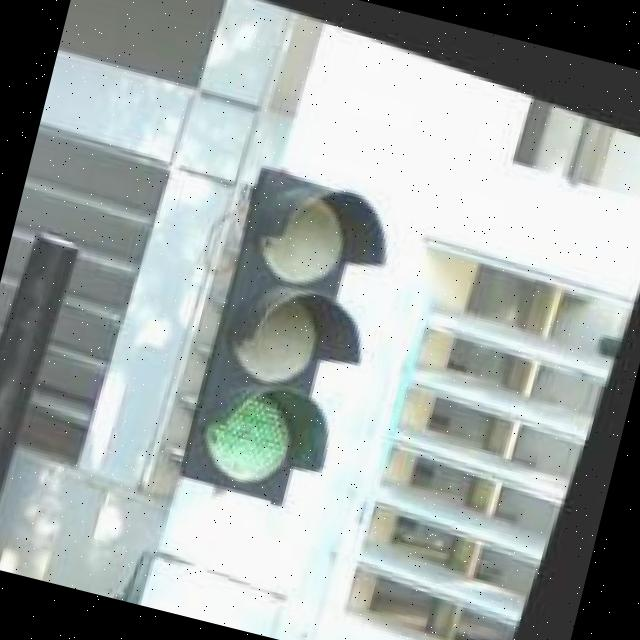green_light: (158, 147, 422, 516)
